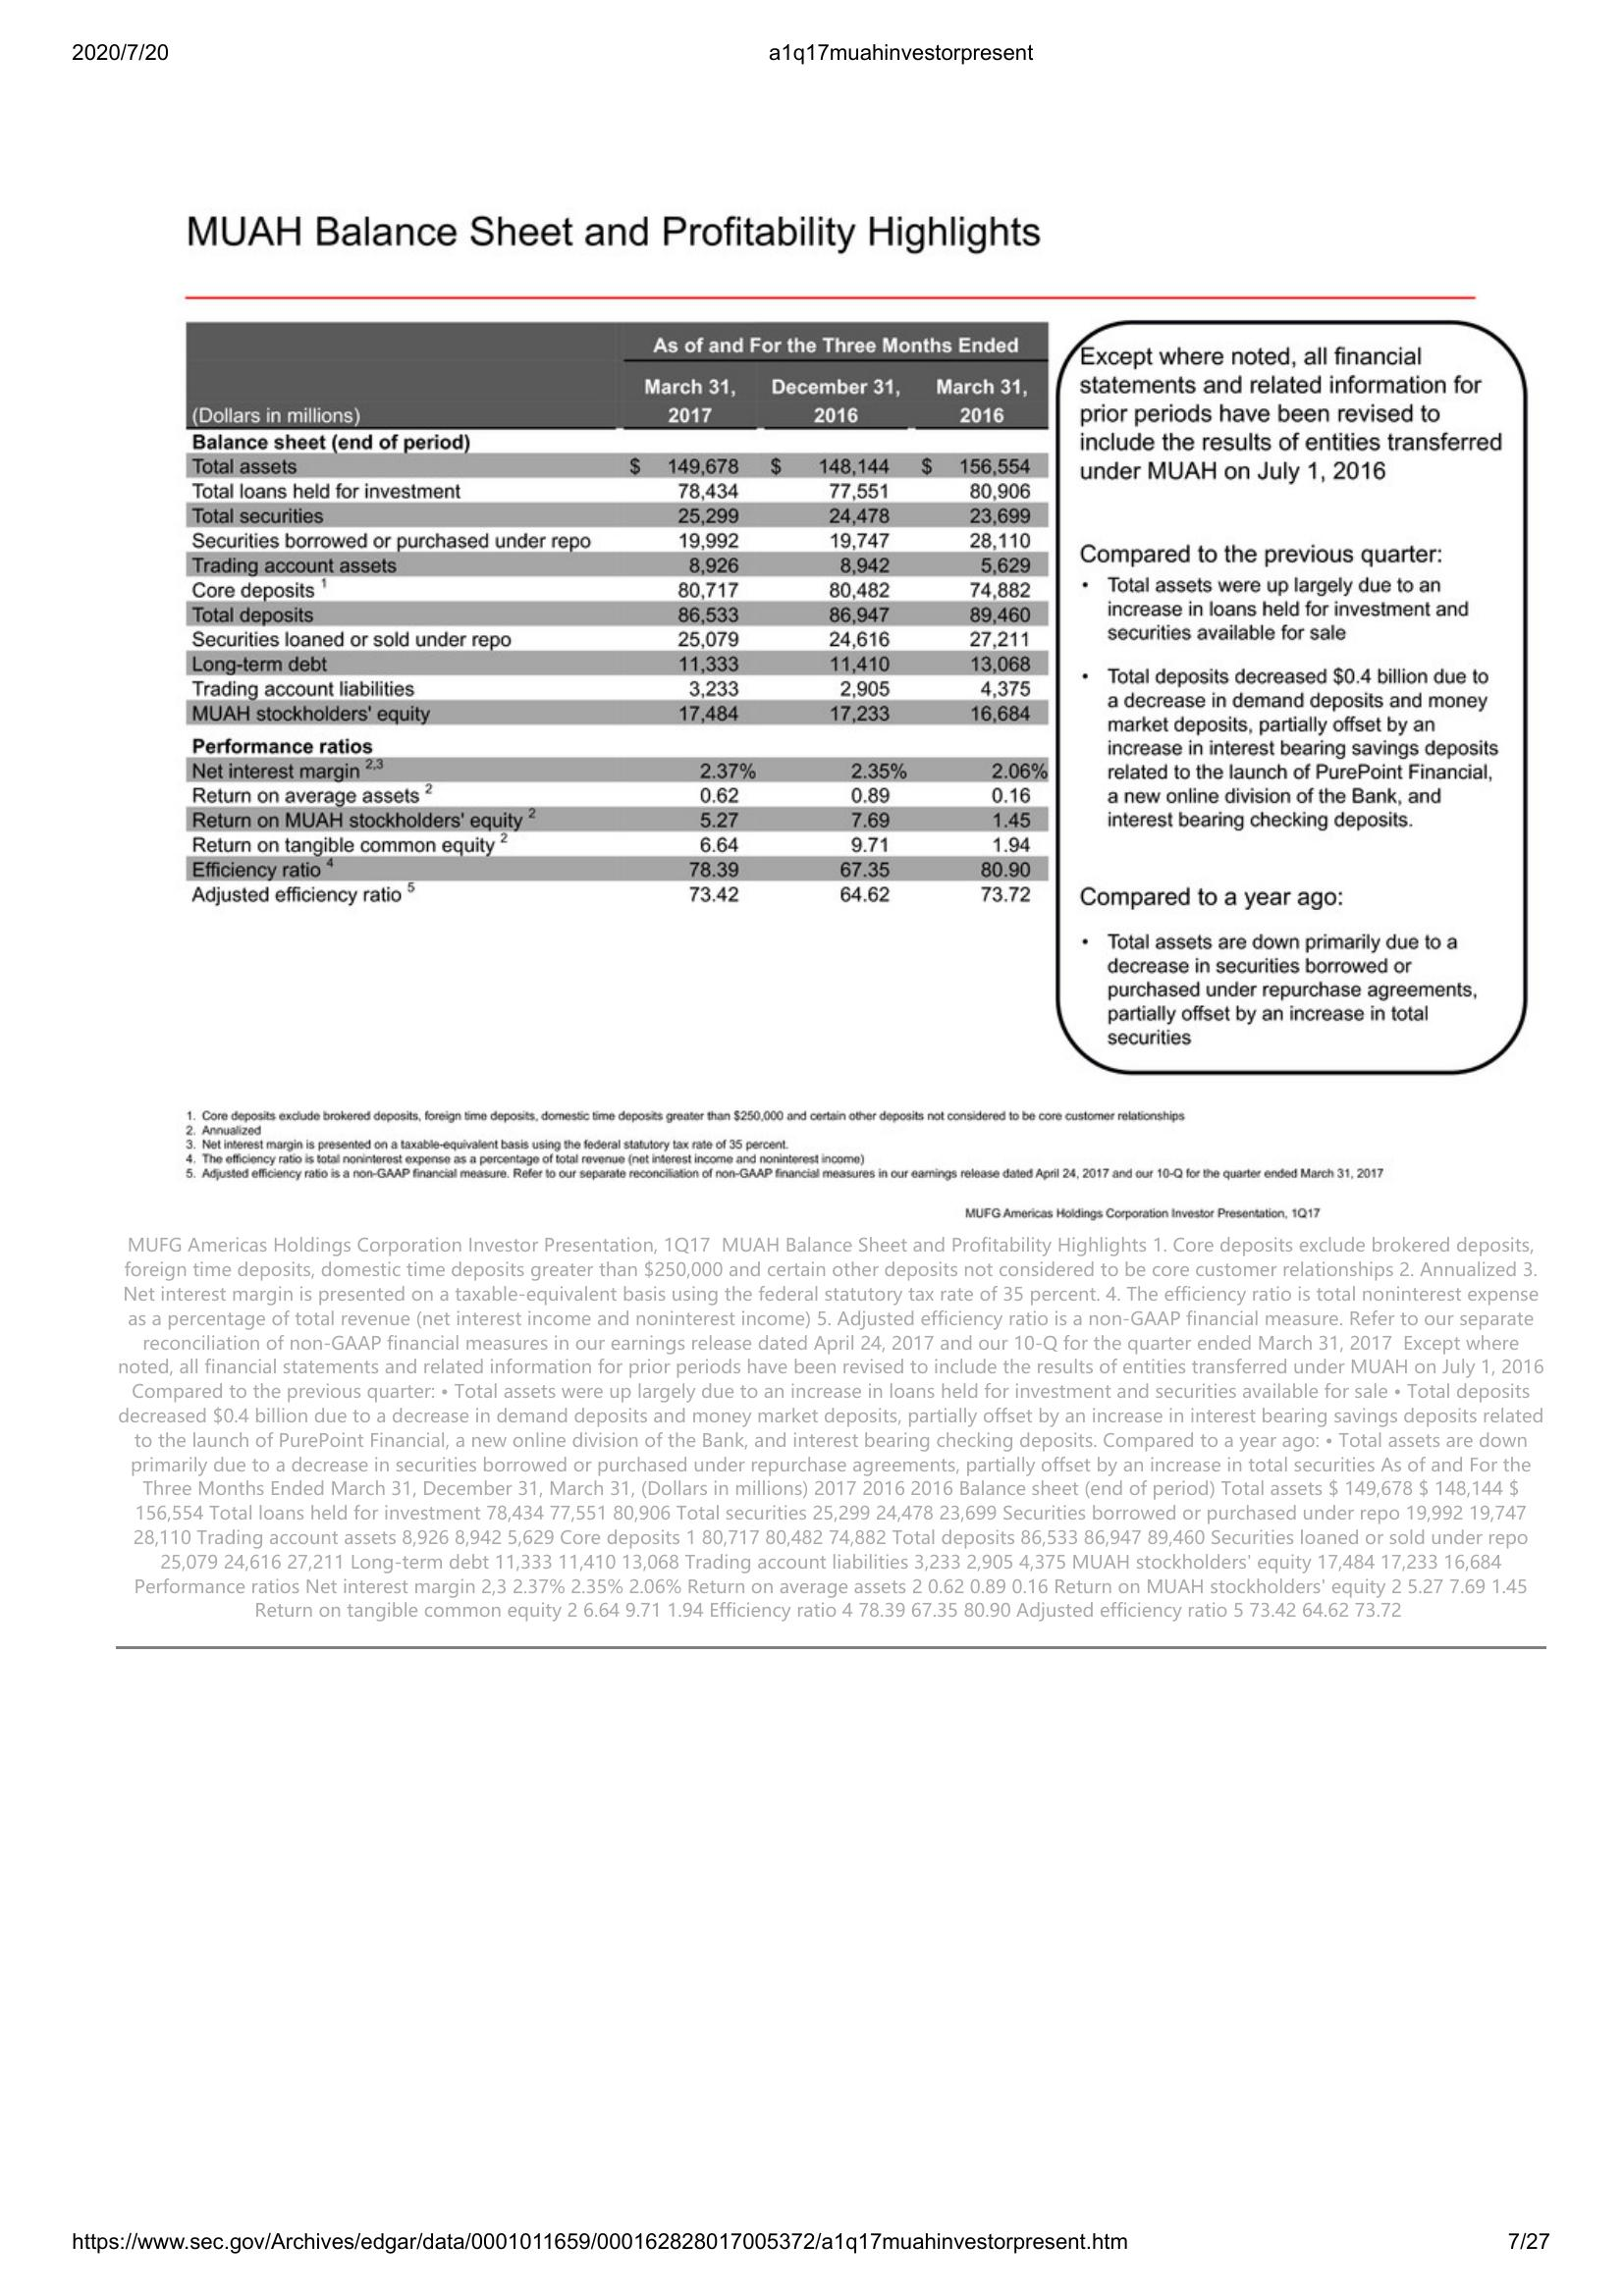table: (181, 316, 1052, 906)
